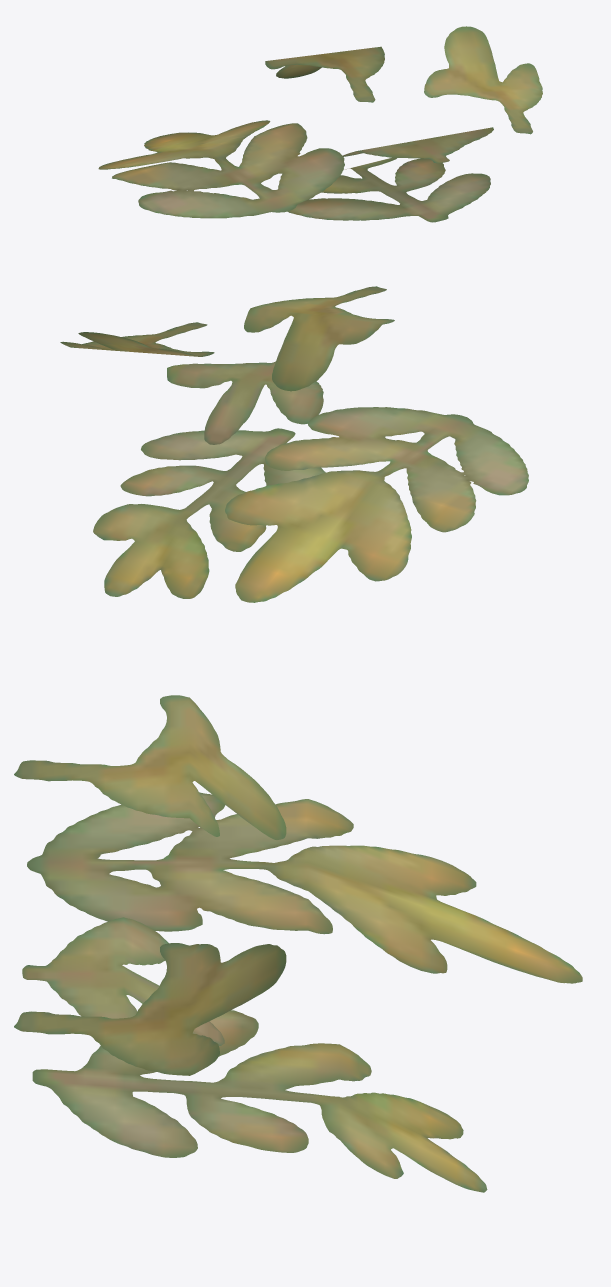
The model's file is pref_sm_beach_techclover05_alpha_01_lv2.fbx.
3 renders of one model, top to bottom at view 1: azimuth 30°, elevation 25°; view 2: azimuth 150°, elevation 25°; view 3: azimuth 270°, elevation 25°, orthographic. The views are drawn at different scales.
Parts seen in each view (by area): view 1: pref_sm_beach_techclover05_alpha_01_lv2; view 2: pref_sm_beach_techclover05_alpha_01_lv2; view 3: pref_sm_beach_techclover05_alpha_01_lv2.
Boxes of the visible parts, x1,y1,x2,y2 form: pref_sm_beach_techclover05_alpha_01_lv2: (98, 26, 542, 222); pref_sm_beach_techclover05_alpha_01_lv2: (60, 286, 528, 602); pref_sm_beach_techclover05_alpha_01_lv2: (14, 695, 582, 1192).
Bounding box in the file's own units: 1.07 × 0.5486 × 0.7345.
